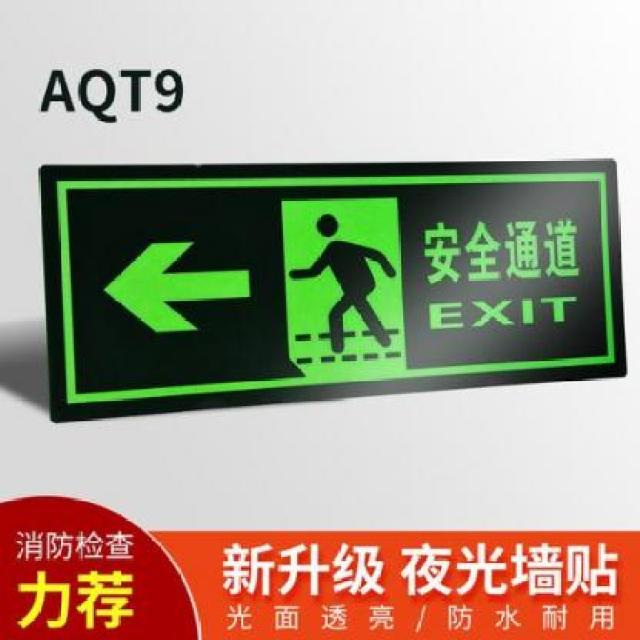exit_sign: (37, 158, 629, 404)
